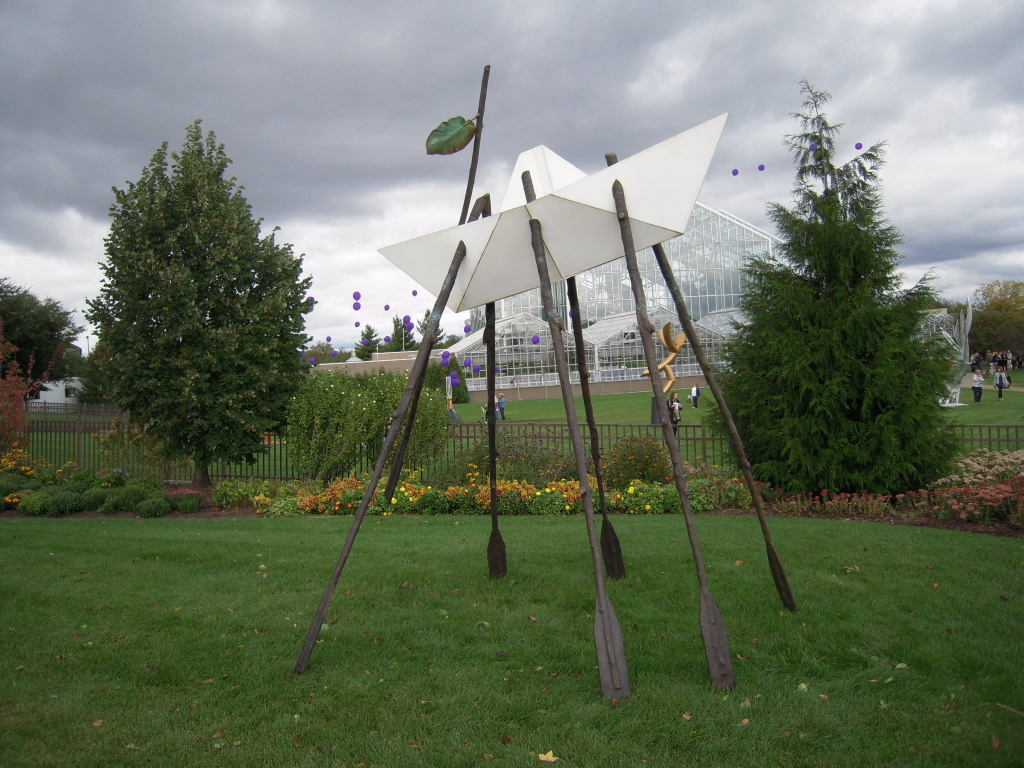Tree: (0, 77, 1023, 497)
